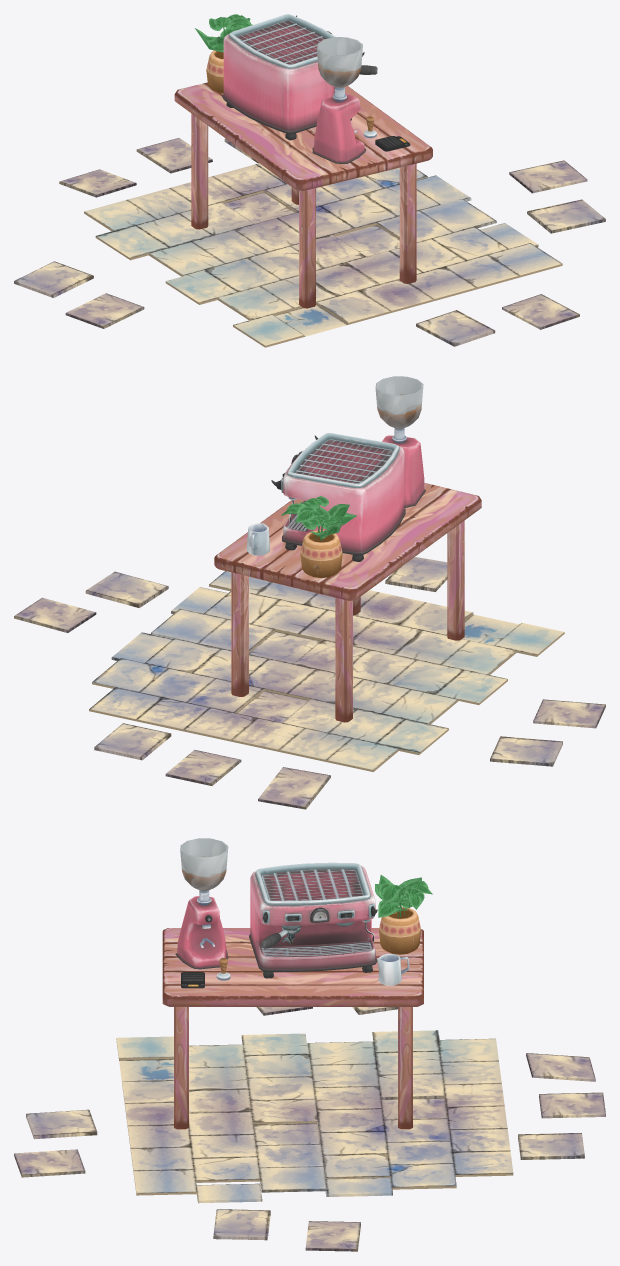
File: barista_equipment.glb
3 views of the same model, one above another, from view 1: azimuth 30°, elevation 25°; view 2: azimuth 150°, elevation 25°; view 3: azimuth 270°, elevation 25° (orthographic). The views are drawn at different scales.
Visible parts, largest first — view 1: Plane.001, Plane, Plane.004, Cube.001, Cube.007, Cylinder.003, Cylinder.005; view 2: Plane.001, Plane, Plane.004, Cube.001, Cylinder.003, Cylinder.005, Cube.007, pitcher; view 3: Plane.001, Plane, Plane.004, Cube.001, Cube.007, Cylinder.003, Cylinder.005, pitcher.
Boxes of the visible parts, bbox=[...] form: Plane.001: bbox=[14, 138, 605, 347]; Plane: bbox=[222, 14, 345, 133]; Plane.004: bbox=[174, 82, 432, 191]; Cube.001: bbox=[191, 113, 416, 308]; Cube.007: bbox=[312, 93, 365, 163]; Cylinder.003: bbox=[316, 37, 362, 101]; Cylinder.005: bbox=[206, 50, 223, 93]; Plane.001: bbox=[14, 557, 605, 809]; Plane: bbox=[282, 433, 405, 555]; Plane.004: bbox=[214, 482, 481, 600]; Cube.001: bbox=[231, 520, 464, 722]; Cylinder.003: bbox=[375, 376, 423, 442]; Cylinder.005: bbox=[300, 530, 342, 578]; Cube.007: bbox=[382, 435, 425, 507]; pitcher: bbox=[246, 523, 269, 555]; Plane.001: bbox=[14, 1007, 605, 1251]; Plane: bbox=[249, 862, 377, 971]; Plane.004: bbox=[162, 928, 423, 1006]; Cube.001: bbox=[174, 1007, 412, 1129]; Cube.007: bbox=[175, 896, 228, 969]; Cylinder.003: bbox=[180, 838, 228, 905]; Cylinder.005: bbox=[379, 907, 421, 954]; pitcher: bbox=[377, 953, 409, 985].
Bounding box in the file's own units: 6.78 × 3.03 × 6.25.
Materials: 3 (3 with a texture image).
